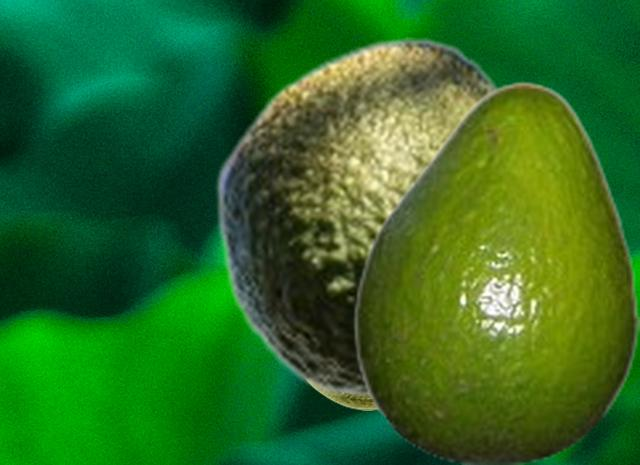avocado: (352, 80, 638, 463), (214, 37, 500, 397)
